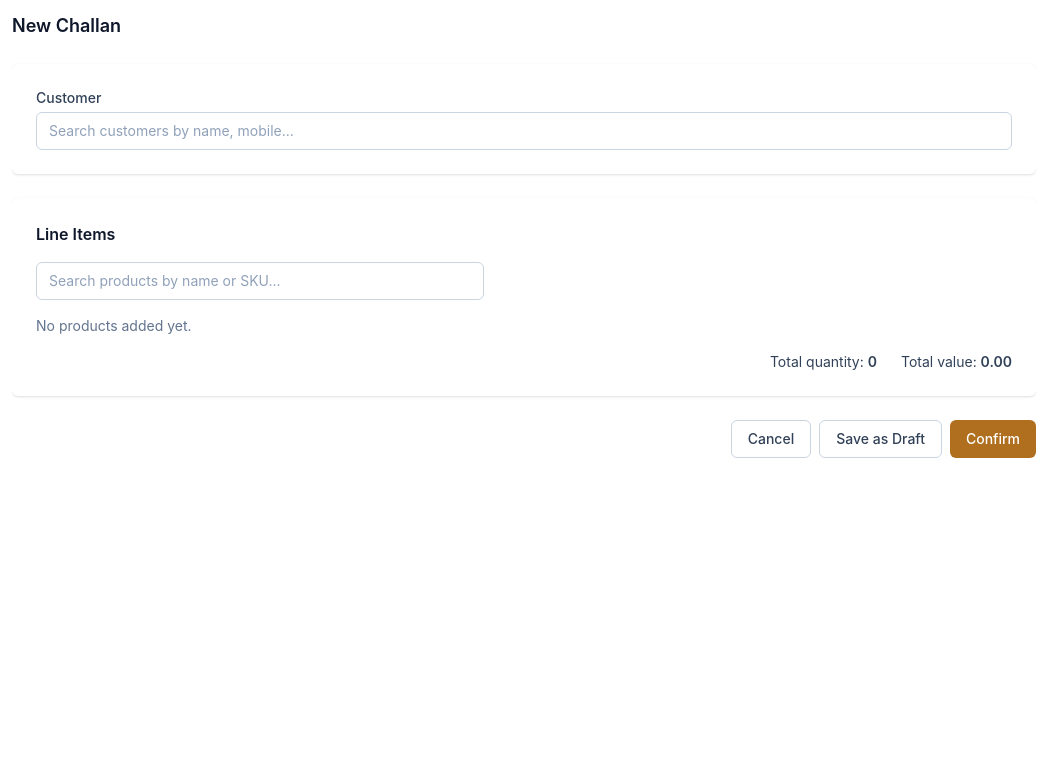
Test: ChallanBuilderPage › creates a Draft challan and navigates to its detail page
In the search field labelled "customer": (524, 131) [36, 112, 1012, 150], type "Acme"
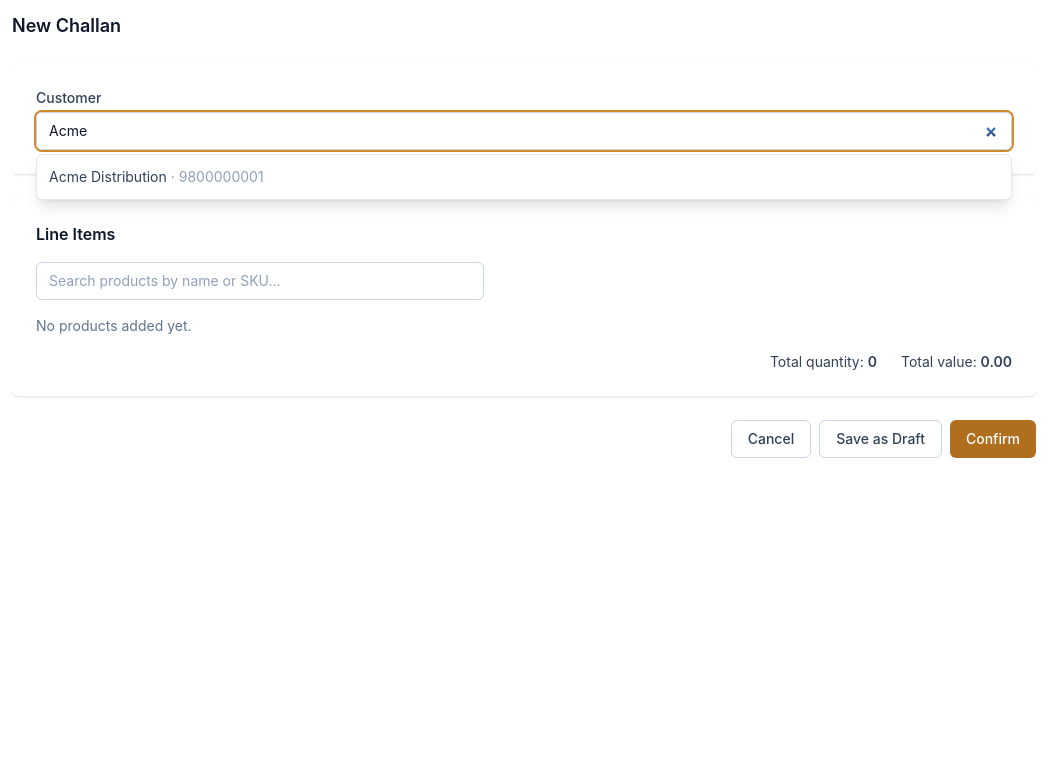
Check: the button "Acme Distribution· 9800000001" is shown
Click the button "Acme Distribution· 9800000001": click(108, 176) [37, 159, 1011, 195]
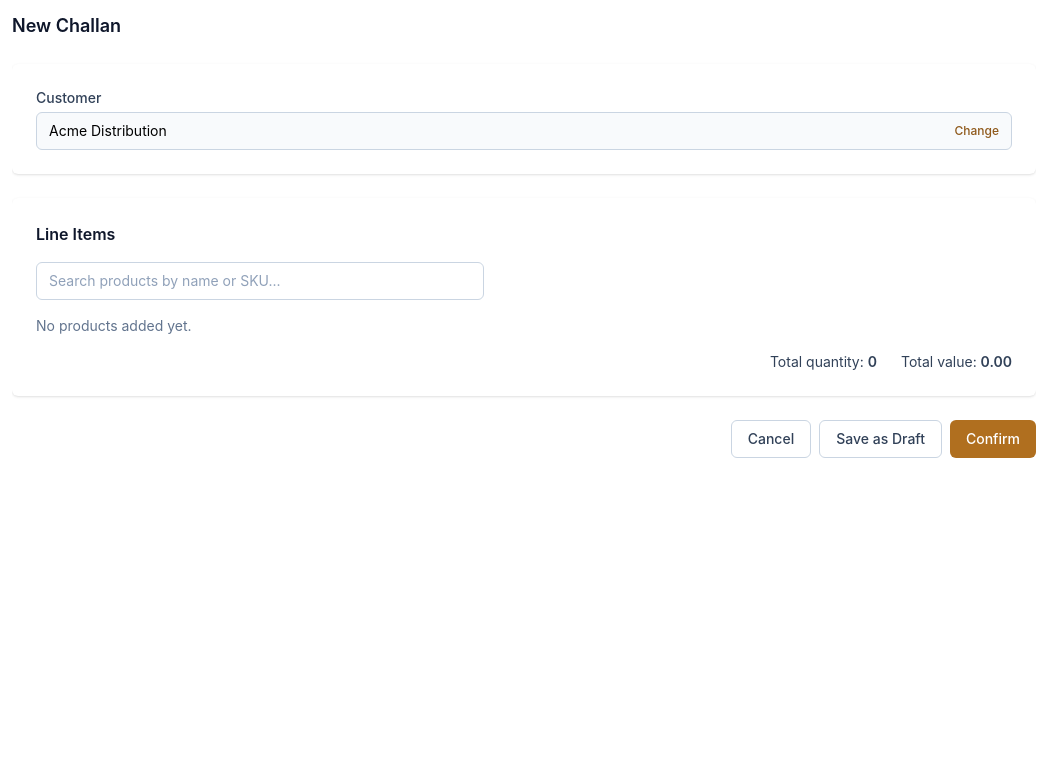
In the search field named "Add product": (260, 281) [36, 262, 484, 300], type "Steel"
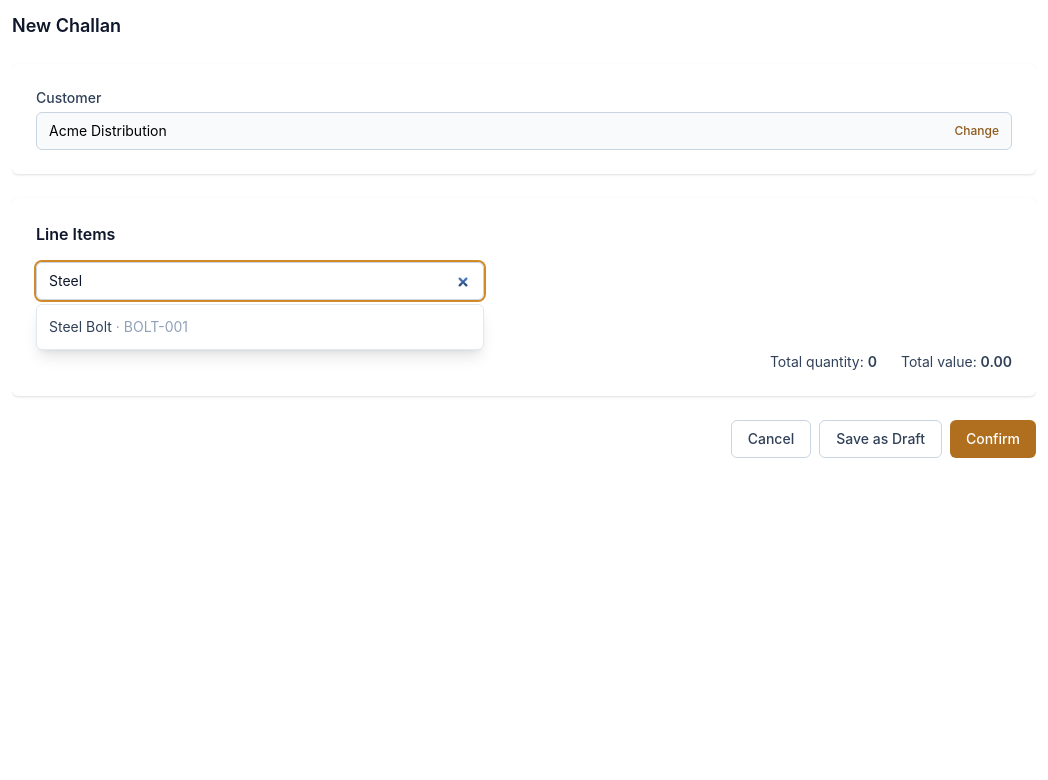
Check: the button "Steel Bolt· BOLT-001" is shown
Click the button "Steel Bolt· BOLT-001": click(80, 326) [37, 309, 483, 345]
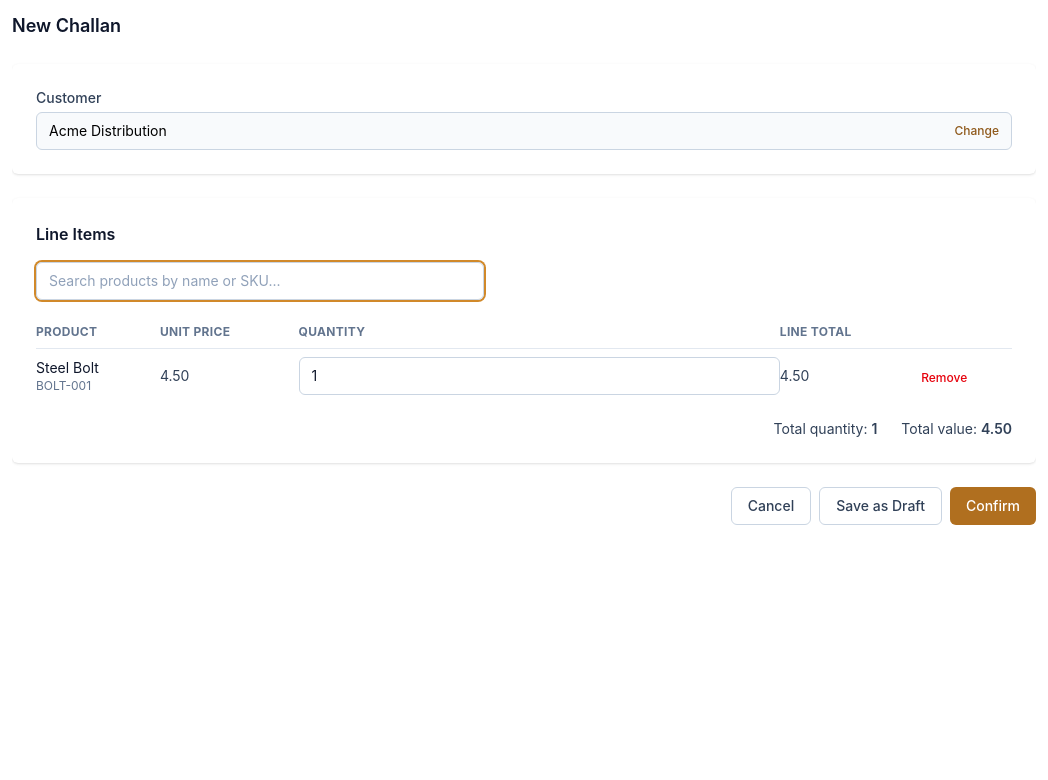
Click the button "Save as Draft": click(881, 506) [819, 487, 942, 525]
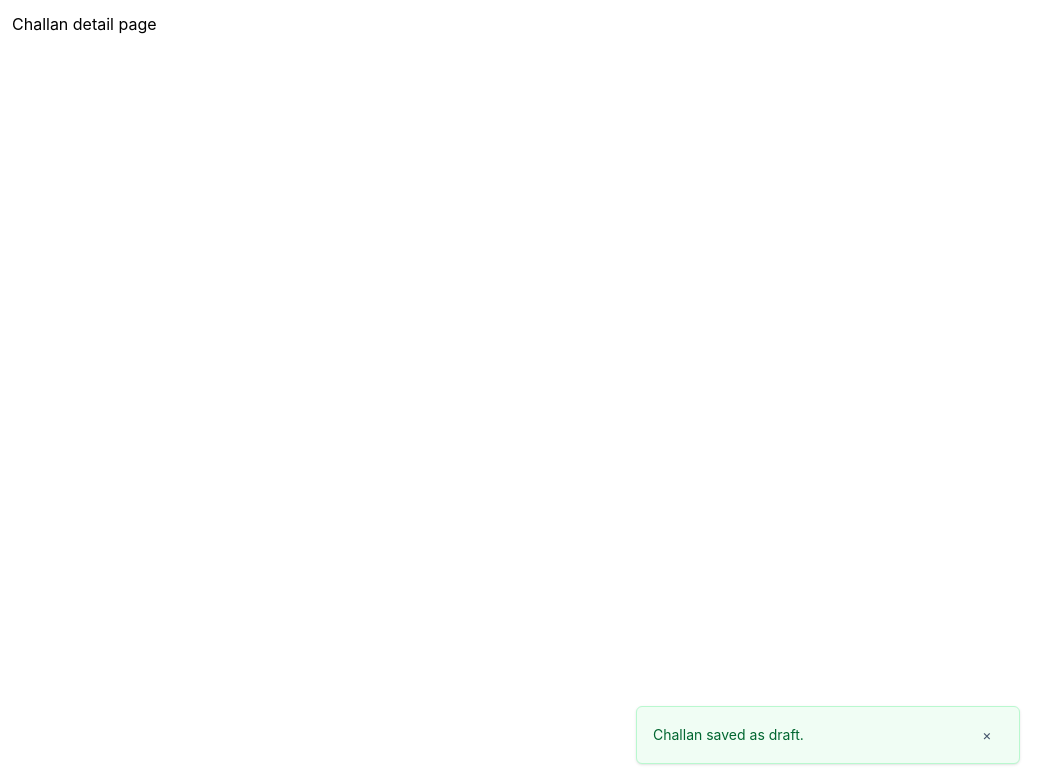
Check: the text "Challan detail page" is shown, box [12, 14, 157, 34]
